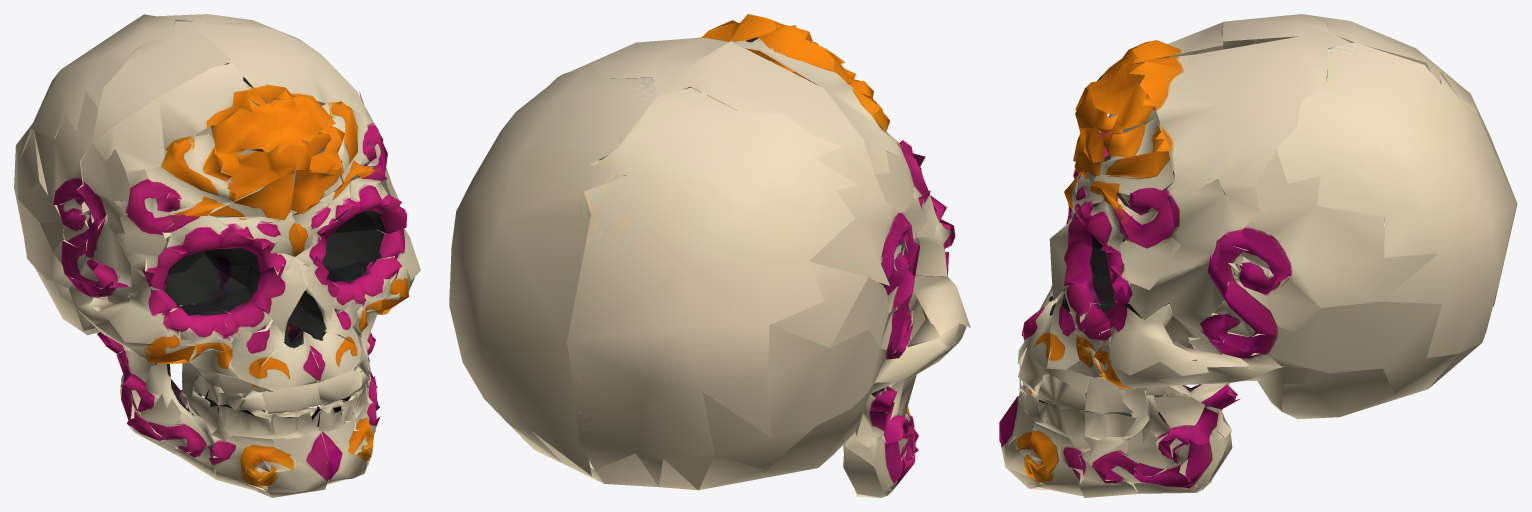
Rendered from sugar_skull.glb.
3 views of the same model, side by side, from view 1: azimuth 30°, elevation 25°; view 2: azimuth 150°, elevation 25°; view 3: azimuth 270°, elevation 25° (orthographic). The views are drawn at different scales.
Parts seen in each view (by area): view 1: sugar_skull; view 2: sugar_skull; view 3: sugar_skull.
Part boxes in pixels (<box>): sugar_skull: <box>14,14,420,497</box>; sugar_skull: <box>449,14,970,497</box>; sugar_skull: <box>999,14,1517,497</box>.
Size of the model in its own units: 0.2035 by 0.2215 by 0.2415.
Materials: 1 (1 with a texture image).
